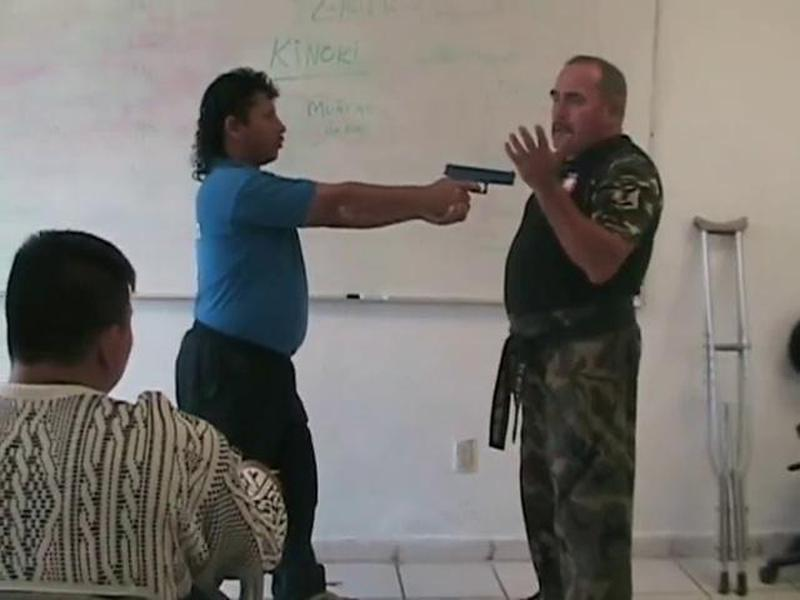Pistola: (443, 154, 519, 207)
